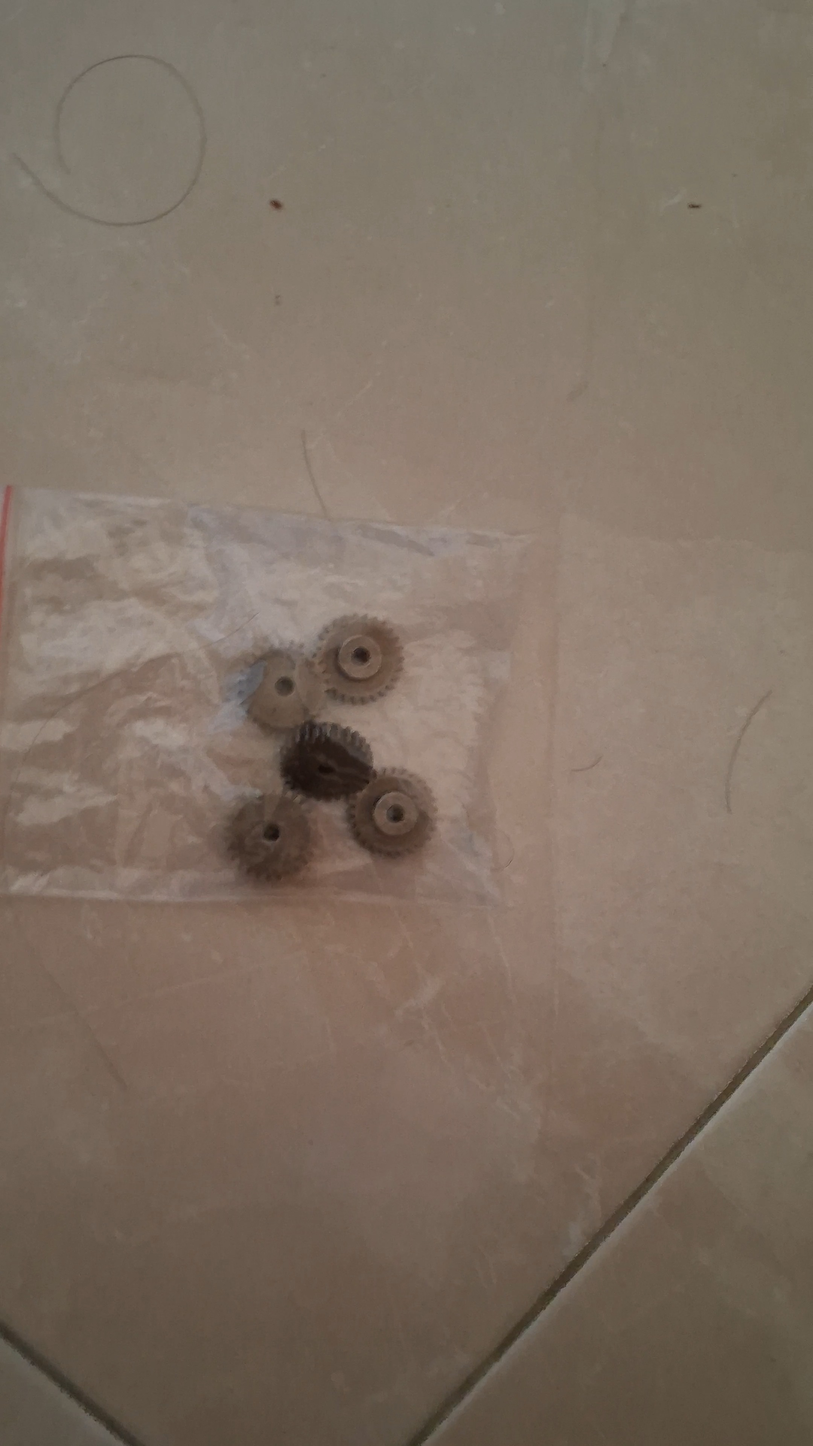spur gear: (314, 616, 402, 703), (348, 770, 436, 857), (229, 790, 311, 880), (280, 721, 372, 799), (247, 649, 324, 729)
